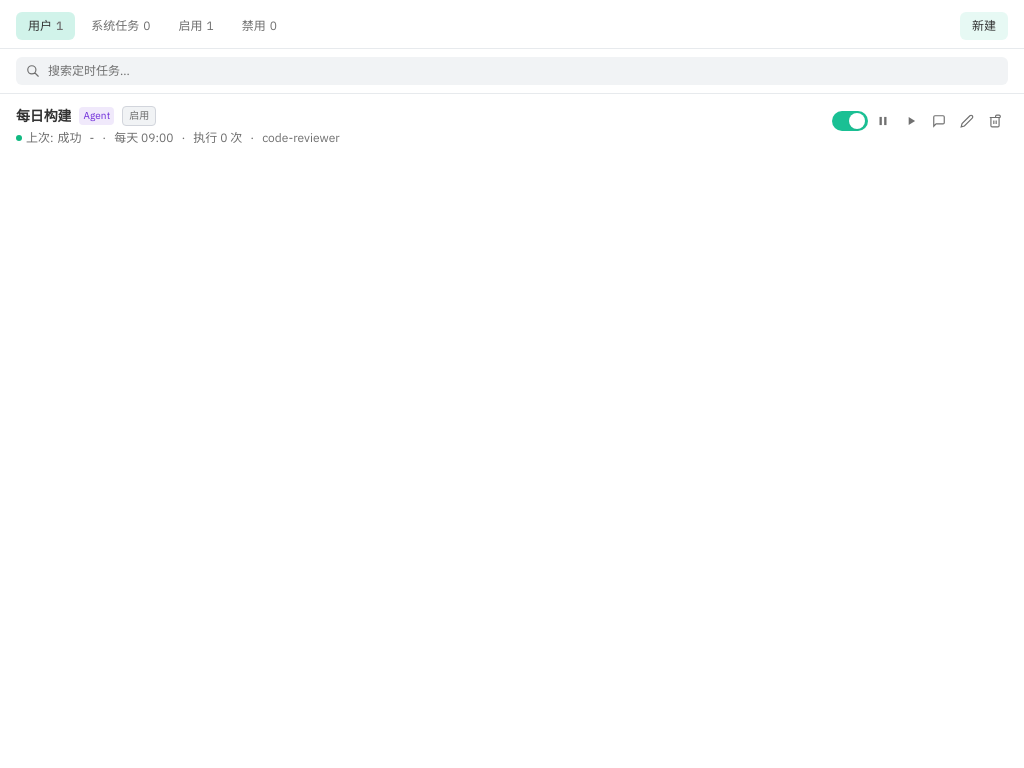
能力类任务：会话列表与跳转（B2） › 会话没有归属工作目录（workspacePath 为空）：照常投递空路径，由主进程判非法并如实提示
Click the button "每日构建 Agent 启用 上次: 成功 - · 每天 09:00 · 执行 0 次 · code-reviewer" at {"x": 44, "y": 116}, box 16,106 -> 820,146
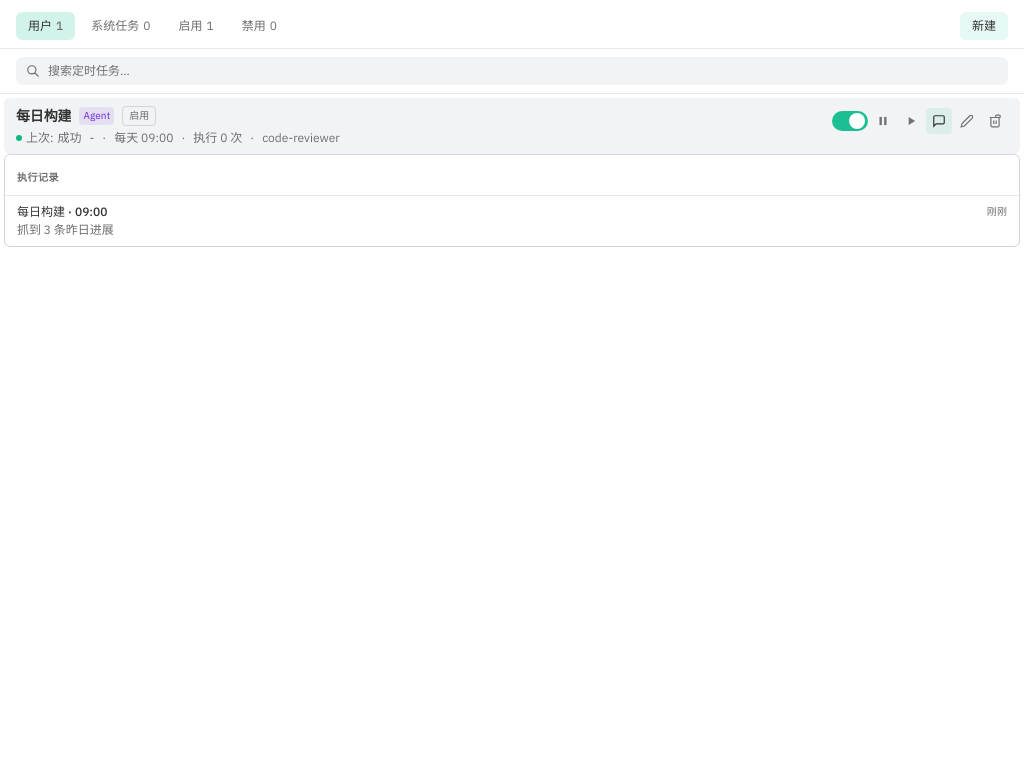
Click the button with aria-label "打开会话：每日构建 · 09:00" at {"x": 62, "y": 212}, box 5,196 -> 1019,246
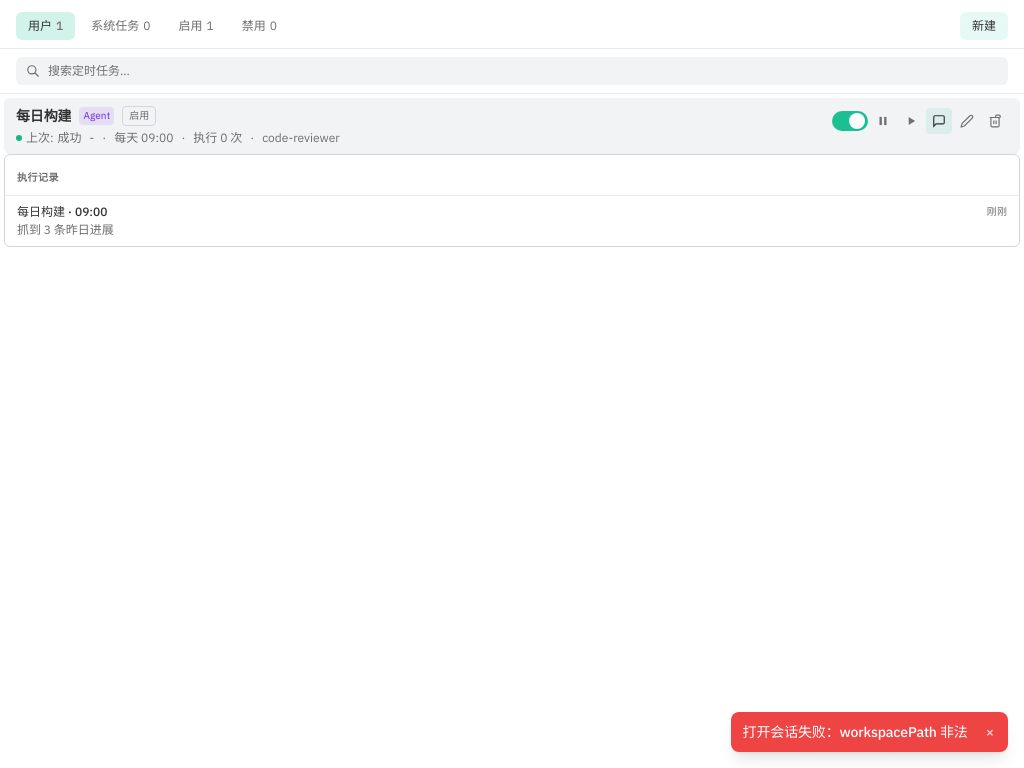
Expected: the text "打开会话失败：workspacePath 非法" is shown, 743,723 -> 968,741
